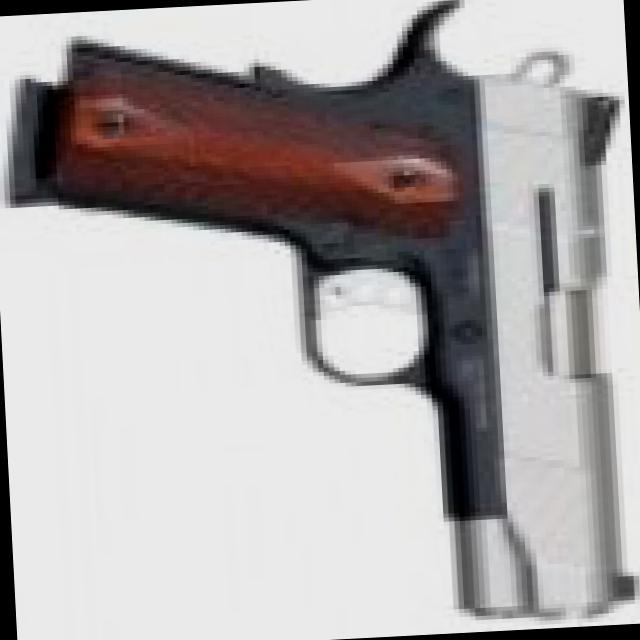handgun: (33, 0, 639, 639)
